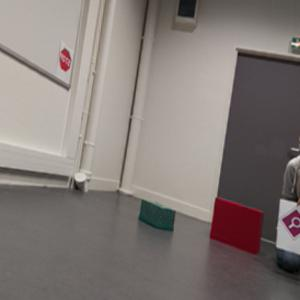search: (281, 207, 300, 239)
stop: (59, 47, 71, 72)
